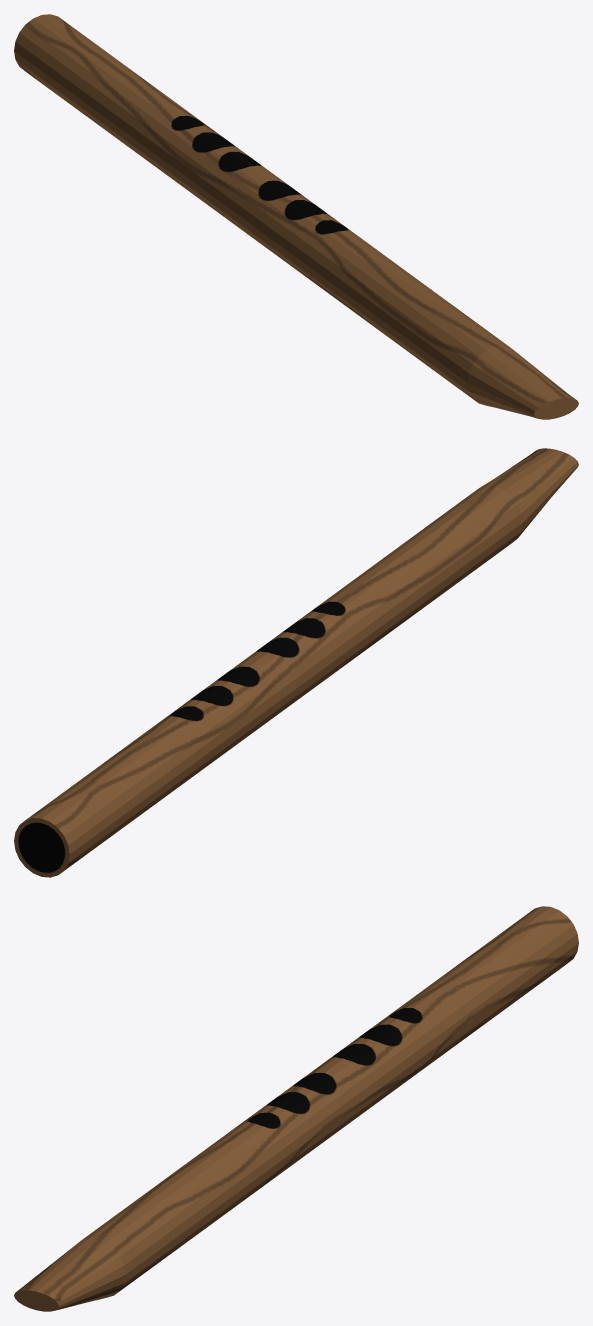
The model's file is flute.glb.
3 views of the same model, one above another, from view 1: azimuth 30°, elevation 25°; view 2: azimuth 150°, elevation 25°; view 3: azimuth 330°, elevation 25° (orthographic).
Parts seen in each view (by area): view 1: flute; view 2: flute; view 3: flute.
Boxes of the visible parts, bbox=[...] form: flute: bbox=[14, 14, 578, 419]; flute: bbox=[14, 448, 578, 877]; flute: bbox=[14, 906, 578, 1311].
Size of the model in its own units: 1.59 by 1.59 by 25.48.
1 material, 1 textured.
